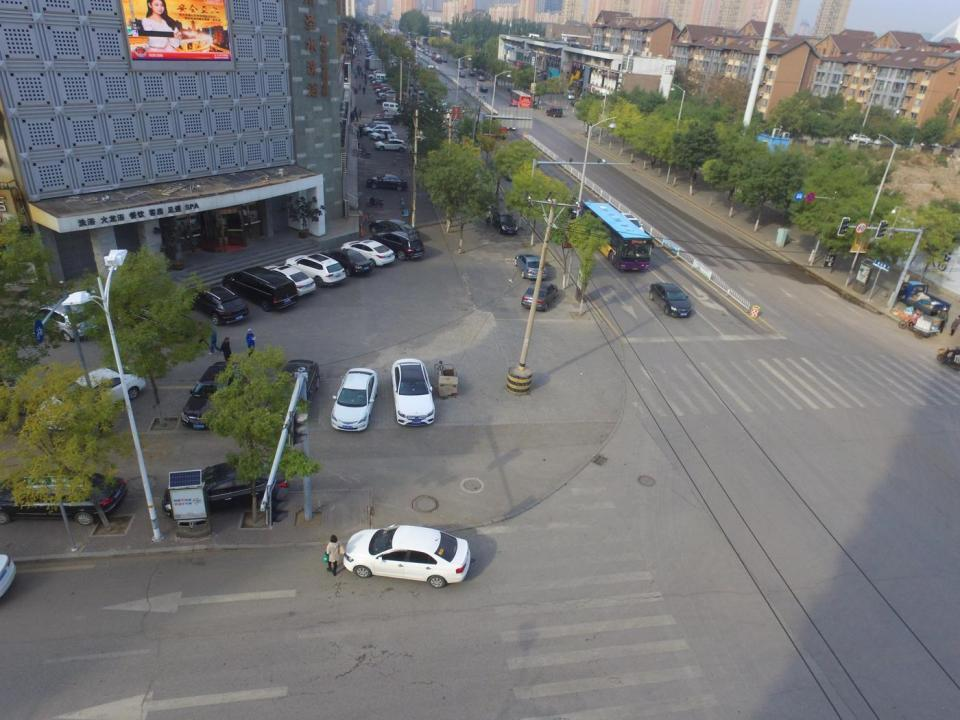bus: (582, 200, 650, 274), (510, 89, 532, 113)
car: (344, 523, 471, 588), (35, 364, 147, 433), (0, 468, 126, 528), (160, 459, 286, 515), (255, 358, 326, 430), (183, 358, 250, 432), (122, 293, 193, 344), (223, 265, 297, 312), (35, 298, 110, 341), (330, 369, 380, 432), (392, 360, 436, 428), (185, 284, 246, 330), (286, 252, 348, 287), (258, 264, 316, 298), (366, 232, 424, 262), (323, 248, 374, 279), (648, 283, 693, 318), (372, 219, 421, 250), (343, 240, 393, 270), (521, 280, 560, 312), (516, 254, 550, 278), (368, 173, 409, 192), (490, 211, 517, 236), (564, 197, 585, 220), (374, 139, 408, 153), (848, 132, 874, 148), (362, 125, 391, 138), (361, 121, 390, 134), (370, 130, 397, 142), (374, 115, 400, 126), (545, 106, 564, 118), (480, 86, 488, 92), (468, 70, 474, 78), (478, 76, 485, 82), (459, 71, 466, 77), (427, 64, 434, 69), (457, 64, 462, 69)
truck: (898, 280, 950, 317)
van: (381, 102, 401, 113), (567, 90, 576, 100)
